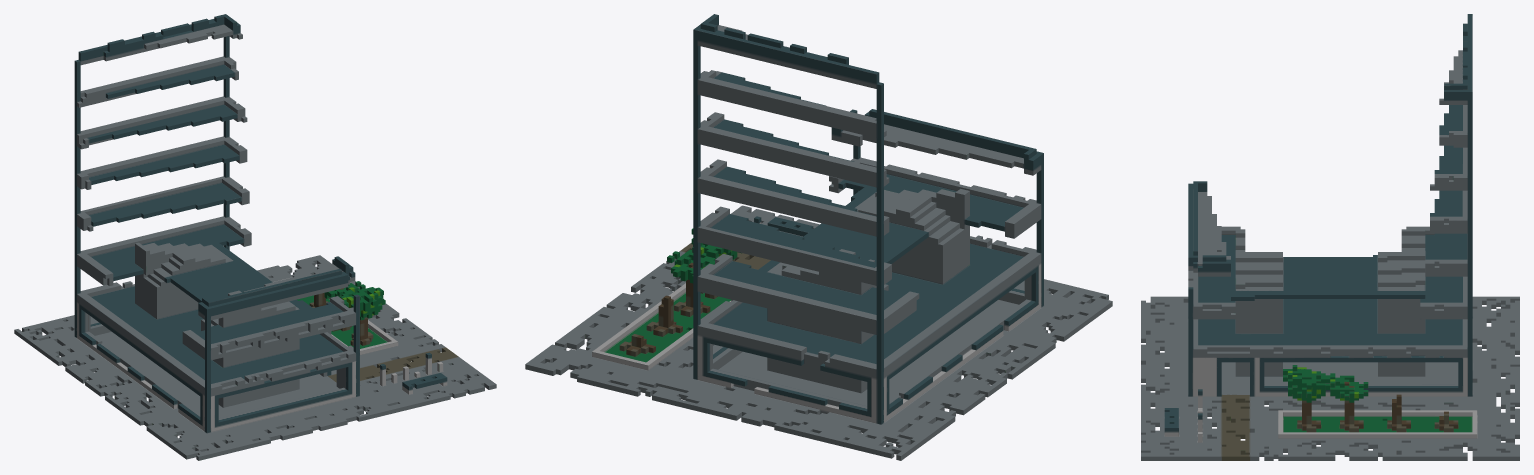
File: building_big_4_destroyed.glb
3 renders of one model, left to right at view 1: azimuth 30°, elevation 25°; view 2: azimuth 150°, elevation 25°; view 3: azimuth 270°, elevation 25°, orthographic. The views are drawn at different scales.
Visible parts, largest first — view 1: building_big_4_destroyed; view 2: building_big_4_destroyed; view 3: building_big_4_destroyed.
Boxes of the visible parts, box(x1,y1,x2,y2) form: building_big_4_destroyed: box(14, 14, 496, 460); building_big_4_destroyed: box(525, 14, 1112, 460); building_big_4_destroyed: box(1141, 14, 1519, 460).
Size of the model in its own units: 8 by 7.3 by 8.
1 material, 1 textured.
